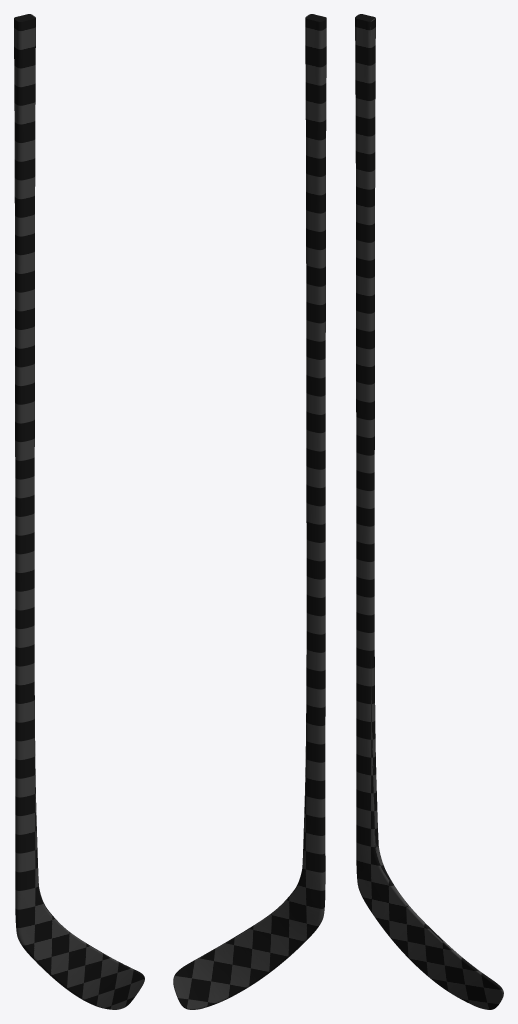
The model's file is P65-SBO.glb.
3 renders of one model, left to right at view 1: azimuth 30°, elevation 25°; view 2: azimuth 150°, elevation 25°; view 3: azimuth 330°, elevation 25°, orthographic. The views are drawn at different scales.
Visible parts, largest first — view 1: geometry_0; view 2: geometry_0; view 3: geometry_0.
Part boxes in pixels (<box>): geometry_0: <box>14,14,144,1009</box>; geometry_0: <box>173,14,326,1009</box>; geometry_0: <box>355,14,503,1009</box>.
Bounding box in the file's own units: 237 × 1650 × 58.52.
1 material, 1 textured.
